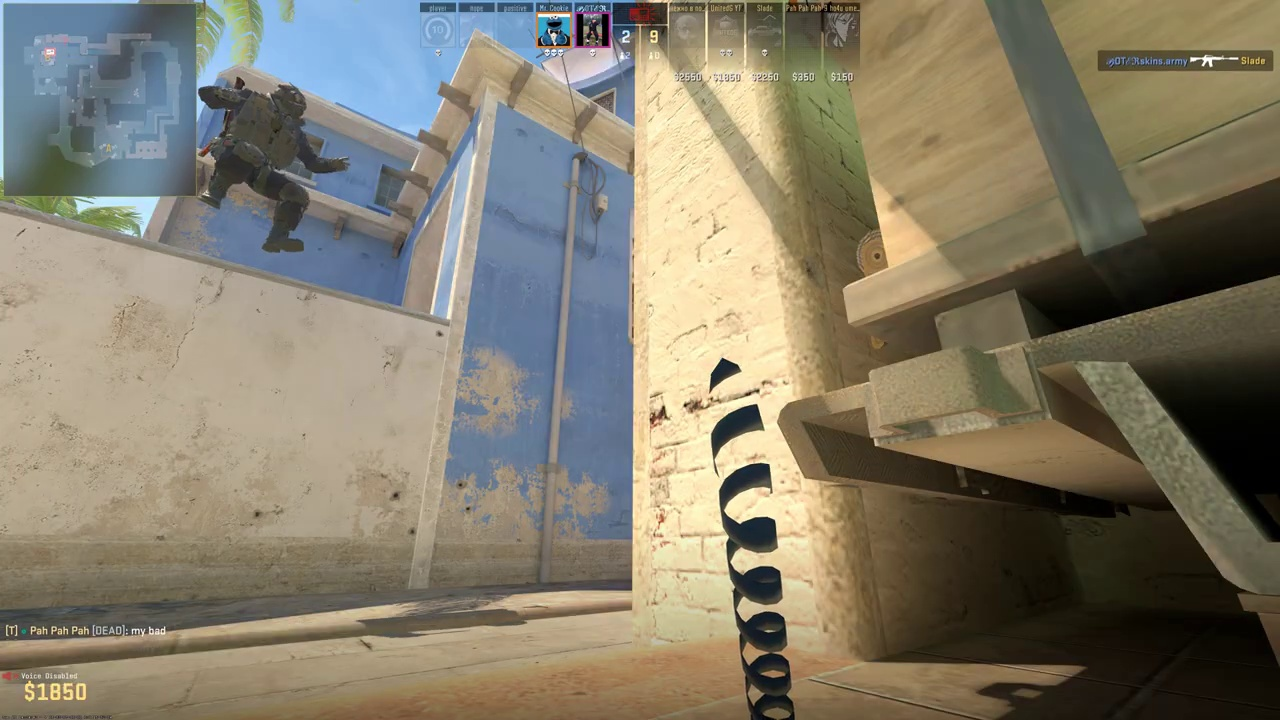CT: (200, 82, 313, 253)
